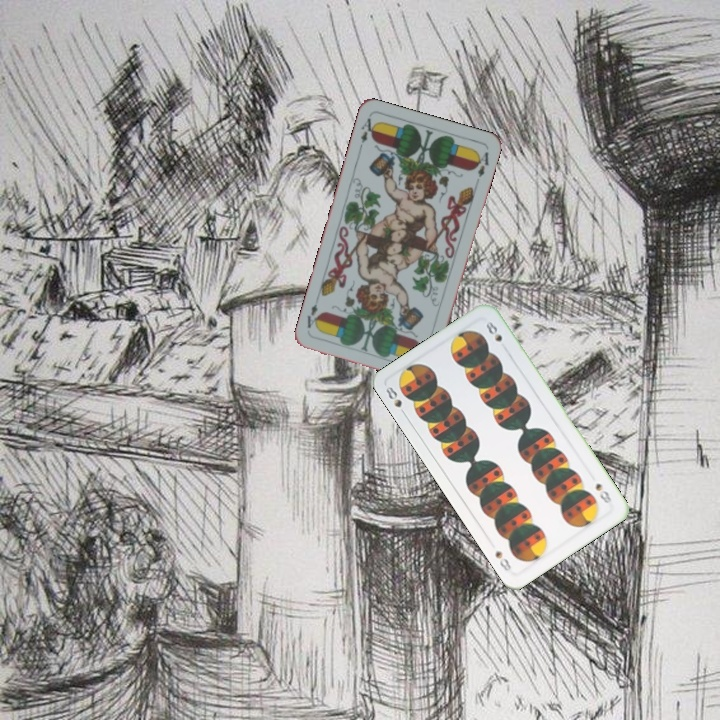EA: (355, 114, 378, 152)
S8: (382, 382, 409, 419), (591, 479, 614, 506)
